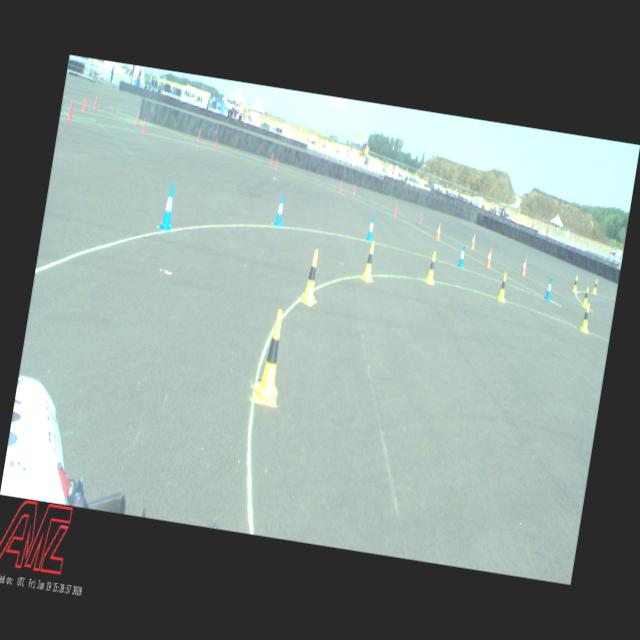blue_cone: (159, 182, 179, 232), (273, 194, 287, 228), (366, 215, 376, 242), (544, 276, 554, 300), (457, 244, 466, 268)
orange_cone: (484, 247, 494, 269), (520, 256, 528, 276), (434, 223, 442, 241), (469, 232, 476, 250)
unknown_cone: (66, 100, 75, 122), (81, 96, 88, 112), (93, 94, 99, 110), (141, 118, 147, 134), (393, 204, 398, 218), (135, 111, 140, 124), (197, 128, 201, 142), (214, 138, 218, 152), (338, 180, 342, 194), (274, 157, 278, 170), (419, 210, 423, 223), (270, 152, 274, 164), (352, 182, 356, 194)
yellow_cone: (253, 308, 290, 407), (300, 248, 323, 306), (362, 240, 378, 282), (426, 252, 438, 284), (580, 302, 592, 334), (497, 272, 509, 302), (582, 286, 590, 308), (572, 275, 580, 292), (592, 279, 598, 294)
